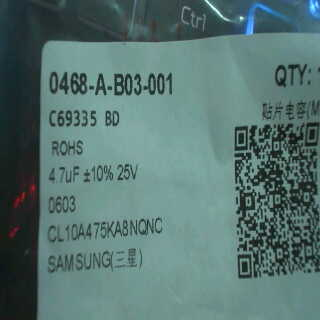4.7uF: (46, 161, 80, 189)
